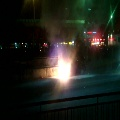fire: (54, 60, 70, 81)
